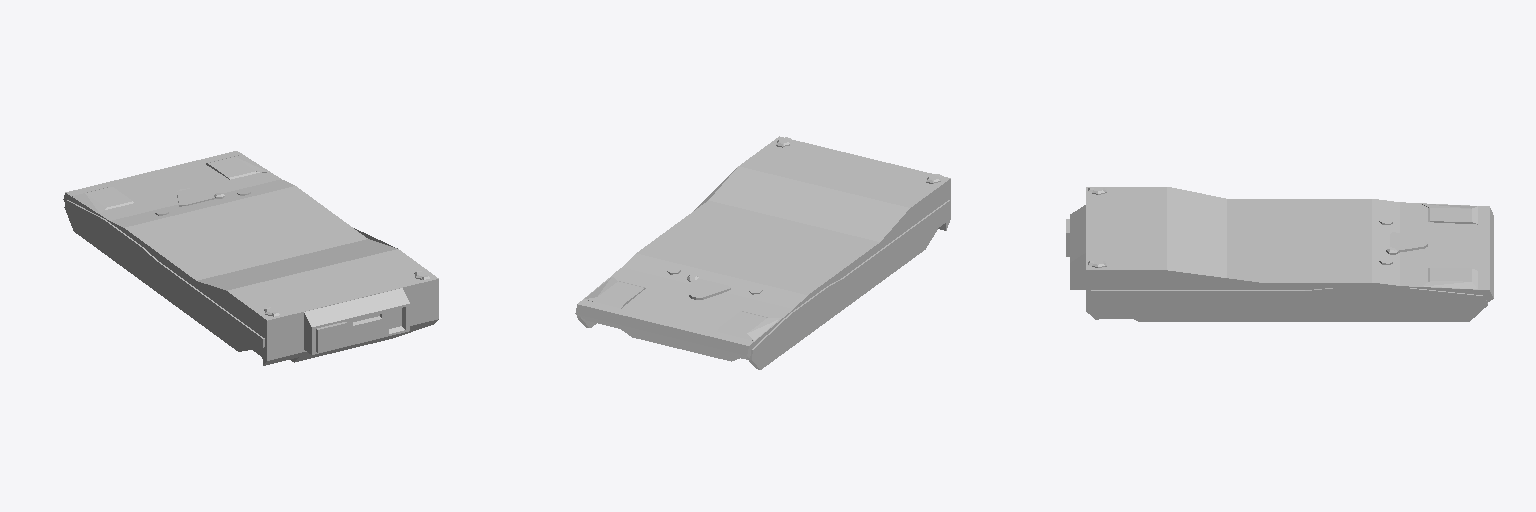
The model's file is Body.obj.
The picture shows the model from 3 angles: view 1: azimuth 30°, elevation 25°; view 2: azimuth 150°, elevation 25°; view 3: azimuth 270°, elevation 25°; orthographic projection.
Parts seen in each view (by area): view 1: Cube.017; view 2: Cube.017; view 3: Cube.017.
Part boxes in pixels (x1,y1,x2,y2): Cube.017: (63,151,438,365); Cube.017: (575,136,950,369); Cube.017: (1066,187,1493,321).
Size of the model in its own units: 4.26 by 1.42 by 9.01.